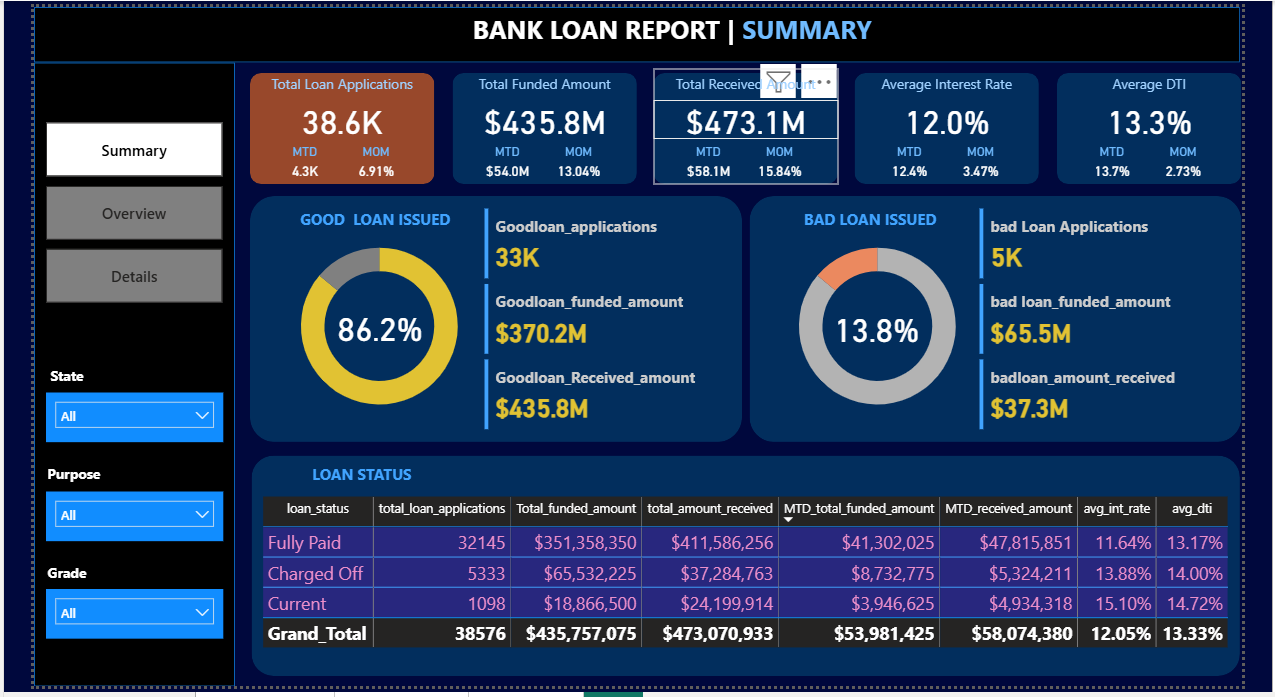

Layout of this report page (visuals, bound fields, positions):
{"tool":"powerbi","page":{"name":"Summary","canvas":[1280,720],"ordinal":0},"visuals":[{"type":"shape","box":[0,0,1278.9,58.9],"z":0},{"type":"shape","box":[0,58.9,213.1,661.7],"z":1000},{"type":"textbox","box":[451.7,0,450.1,52.5],"z":2000},{"type":"group","id":"g1","title":"Group 1","box":[229,65.2,195.6,122.5],"z":3000},{"type":"shape","box":[229,70,195.6,117.7],"z":3000,"group":"g1"},{"type":"shape","box":[443,70,195.6,117.7],"z":3000,"group":"g2"},{"type":"shape","box":[656.9,70,195.6,117.7],"z":3000,"group":"g3"},{"type":"shape","box":[870.9,70,195.6,117.7],"z":3000,"group":"g4"},{"type":"shape","box":[1084.4,70,195.6,117.7],"z":3000,"group":"g5"},{"type":"group","id":"g2","title":"Group 1","box":[443,65.2,195.6,122.5],"z":4000},{"type":"group","id":"g3","title":"Group 1","box":[656.9,65.2,195.6,122.5],"z":5000},{"type":"group","id":"g4","title":"Group 1","box":[870.9,65.2,195.6,122.5],"z":6000},{"type":"group","id":"g5","title":"Group 1","box":[1084.4,65.2,195.6,122.5],"z":7000},{"type":"card","title":"Total Loan applications","fields":{"Values":["financial_loan.total_loan_applications"]},"box":[229,98.6,195.6,41.4],"z":8000,"group":"g1"},{"type":"card","title":"Total Loan applications","fields":{"Values":["financial_loan.Total_funded_amount"]},"box":[443,98.6,195.6,41.4],"z":8000,"group":"g2"},{"type":"card","title":"Total Loan applications","fields":{"Values":["financial_loan.total_amount_received"]},"box":[656.9,98.6,195.6,41.4],"z":8000,"group":"g3"},{"type":"card","title":"Total Loan applications","fields":{"Values":["financial_loan.avg_int_rate"]},"box":[870.9,98.6,195.6,41.4],"z":8000,"group":"g4"},{"type":"card","title":"Total Loan applications","fields":{"Values":["financial_loan.avg_dti"]},"box":[1084.4,98.6,195.6,41.4],"z":8000,"group":"g5"},{"type":"shape","box":[229,200.4,521.7,260.9],"z":8000},{"type":"textbox","box":[229,65.2,195.6,33.4],"z":9000,"group":"g1"},{"type":"textbox","box":[443,65.2,195.6,33.4],"z":9000,"group":"g2"},{"type":"textbox","box":[656.9,65.2,195.6,33.4],"z":9000,"group":"g3"},{"type":"textbox","box":[870.9,65.2,195.6,33.4],"z":9000,"group":"g4"},{"type":"textbox","box":[1084.4,65.2,195.6,33.4],"z":9000,"group":"g5"},{"type":"donutChart","fields":{"Category":["financial_loan.good loan vs bad loan"],"Y":["financial_loan.total_loan_applications"]},"box":[230.6,229,270.4,217.9],"z":9000},{"type":"card","title":"MTD","fields":{"Values":["financial_loan.MTD_total_loan_applications"]},"box":[246.5,146.3,81.1,41.4],"z":10000,"group":"g1"},{"type":"card","title":"MTD","fields":{"Values":["financial_loan.MTD_total_funded_amount"]},"box":[460.5,146.3,81.1,41.4],"z":10000,"group":"g2"},{"type":"card","title":"MTD","fields":{"Values":["financial_loan.MTD_received_amount"]},"box":[674.4,146.3,81.1,41.4],"z":10000,"group":"g3"},{"type":"card","title":"MTD","fields":{"Values":["financial_loan.MTD_avg_int_rate"]},"box":[888.4,146.3,81.1,41.4],"z":10000,"group":"g4"},{"type":"card","title":"MTD","fields":{"Values":["financial_loan.MTD_avg_dti"]},"box":[1101.9,146.3,81.1,41.4],"z":10000,"group":"g5"},{"type":"card","title":"Total Loan applications","fields":{"Values":["financial_loan.good_loan_count%"]},"box":[309.3,314.5,116.1,46.6],"z":10000},{"type":"card","title":"MOM","fields":{"Values":["financial_loan.MOM_total_application_count"]},"box":[327.6,146.3,70,41.4],"z":11000,"group":"g1"},{"type":"card","title":"MOM","fields":{"Values":["financial_loan.MOM_funded_amount"]},"box":[541.6,146.3,70,41.4],"z":11000,"group":"g2"},{"type":"card","title":"MOM","fields":{"Values":["financial_loan.MOM_received_Amount"]},"box":[755.5,146.3,70,41.4],"z":11000,"group":"g3"},{"type":"card","title":"MOM","fields":{"Values":["financial_loan.MOM_avg_int_rate"]},"box":[969.5,146.3,70,41.4],"z":11000,"group":"g4"},{"type":"card","title":"MOM","fields":{"Values":["financial_loan.MOM_avg_dti"]},"box":[1183,146.3,70,41.4],"z":11000,"group":"g5"},{"type":"shape","box":[758.7,200.4,521.7,260.9],"z":11000},{"type":"cardVisual","fields":{"Data":["financial_loan.Goodloan_applications","financial_loan.Goodloan_funded_amount","financial_loan.Goodloan_Received_amount"]},"box":[472.4,208.4,275.2,245],"z":12000},{"type":"textbox","box":[251.3,208.4,221.1,35],"z":13000},{"type":"shape","box":[230.6,475.6,1048.2,233.8],"z":14000},{"type":"tableEx","fields":{"Values":["financial_loan.loan_status","financial_loan.total_loan_applications","financial_loan.Total_funded_amount","financial_loan.total_amount_received","financial_loan.MTD_total_funded_amount","financial_loan.MTD_received_amount","financial_loan.avg_int_rate","financial_loan.avg_dti"]},"box":[237,513.8,1035.5,181.3],"z":15000},{"type":"textbox","box":[256.1,478.8,187.7,35],"z":16000},{"type":"donutChart","fields":{"Category":["financial_loan.good loan vs bad loan"],"Y":["financial_loan.total_loan_applications"]},"box":[758.7,229,270.4,217.9],"z":17000},{"type":"textbox","box":[776.2,208.4,221.1,35],"z":18000},{"type":"cardVisual","fields":{"Data":["financial_loan.bad Loan count","financial_loan.bad loan_funded_amount","financial_loan.badloan_amount_received"]},"box":[997.3,208.4,275.2,245],"z":19000},{"type":"card","title":"Total Loan applications","fields":{"Values":["financial_loan.bad loan %"]},"box":[835.1,316.5,116.1,46.1],"z":20000},{"type":"slicer","fields":{"Values":["financial_loan.address_state"]},"box":[12.7,408.8,187.7,52.5],"z":21000},{"type":"textbox","box":[0,375.4,70,33.4],"z":22000},{"type":"slicer","fields":{"Values":["financial_loan.purpose"]},"box":[12.7,513.8,187.7,52.5],"z":23000},{"type":"slicer","fields":{"Values":["financial_loan.grade"]},"box":[12.7,617.2,187.7,52.5],"z":24000},{"type":"textbox","box":[0,478.8,84.3,33.4],"z":25000},{"type":"textbox","box":[0,583.8,70,33.4],"z":26000},{"type":"pageNavigator","box":[12.7,122.5,187.7,192.5],"z":26002}]}

Visuals, with their boxes in screenshot pixels (x1, y1, x2, y2), scaled from the page's 1280x720 canvas onto the 1275x697 screenshot:
shape: box(0, 0, 1274, 57)
shape: box(0, 57, 212, 696)
textbox: box(450, 0, 898, 51)
"Group 1" group: box(228, 63, 423, 182)
shape: box(228, 68, 423, 182)
shape: box(441, 68, 636, 182)
shape: box(654, 68, 849, 182)
shape: box(867, 68, 1062, 182)
shape: box(1080, 68, 1274, 182)
"Group 1" group: box(441, 63, 636, 182)
"Group 1" group: box(654, 63, 849, 182)
"Group 1" group: box(867, 63, 1062, 182)
"Group 1" group: box(1080, 63, 1274, 182)
"Total Loan applications" card: box(228, 95, 423, 136)
"Total Loan applications" card: box(441, 95, 636, 136)
"Total Loan applications" card: box(654, 95, 849, 136)
"Total Loan applications" card: box(867, 95, 1062, 136)
"Total Loan applications" card: box(1080, 95, 1274, 136)
shape: box(228, 194, 748, 447)
textbox: box(228, 63, 423, 95)
textbox: box(441, 63, 636, 95)
textbox: box(654, 63, 849, 95)
textbox: box(867, 63, 1062, 95)
textbox: box(1080, 63, 1274, 95)
donutChart - financial_loan.good loan vs bad loan x financial_loan.total_loan_applications: box(230, 222, 499, 433)
"MTD" card: box(246, 142, 326, 182)
"MTD" card: box(459, 142, 539, 182)
"MTD" card: box(672, 142, 753, 182)
"MTD" card: box(885, 142, 966, 182)
"MTD" card: box(1098, 142, 1178, 182)
"Total Loan applications" card: box(308, 304, 424, 350)
"MOM" card: box(326, 142, 396, 182)
"MOM" card: box(539, 142, 609, 182)
"MOM" card: box(753, 142, 822, 182)
"MOM" card: box(966, 142, 1035, 182)
"MOM" card: box(1178, 142, 1248, 182)
shape: box(756, 194, 1274, 447)
cardVisual - financial_loan.Goodloan_applications x financial_loan.Goodloan_funded_amount: box(471, 202, 745, 439)
textbox: box(250, 202, 471, 236)
shape: box(230, 460, 1274, 687)
tableEx - financial_loan.loan_status x financial_loan.total_loan_applications: box(236, 497, 1268, 673)
textbox: box(255, 464, 442, 497)
donutChart - financial_loan.good loan vs bad loan x financial_loan.total_loan_applications: box(756, 222, 1025, 433)
textbox: box(773, 202, 993, 236)
cardVisual - financial_loan.bad Loan count x financial_loan.bad loan_funded_amount: box(993, 202, 1268, 439)
"Total Loan applications" card: box(832, 306, 947, 351)
slicer - financial_loan.address_state: box(13, 396, 200, 447)
textbox: box(0, 363, 70, 396)
slicer - financial_loan.purpose: box(13, 497, 200, 548)
slicer - financial_loan.grade: box(13, 597, 200, 648)
textbox: box(0, 464, 84, 496)
textbox: box(0, 565, 70, 597)
pageNavigator: box(13, 119, 200, 305)
